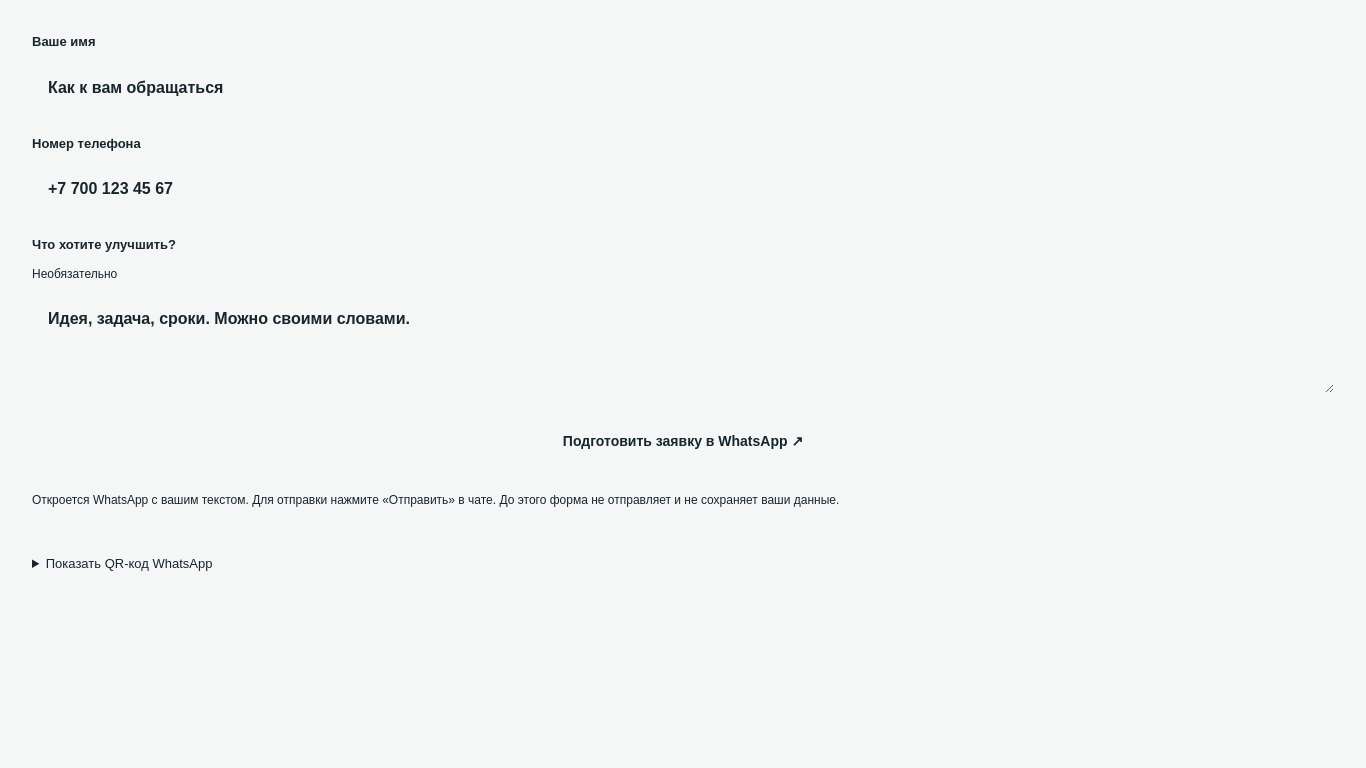
Test: ContactRequest › rejects an invalid phone and preserves the entered fields
In the field labelled "Ваше имя": (683, 88) top-left (32, 62), bottom-right (1334, 114), type "Тест"
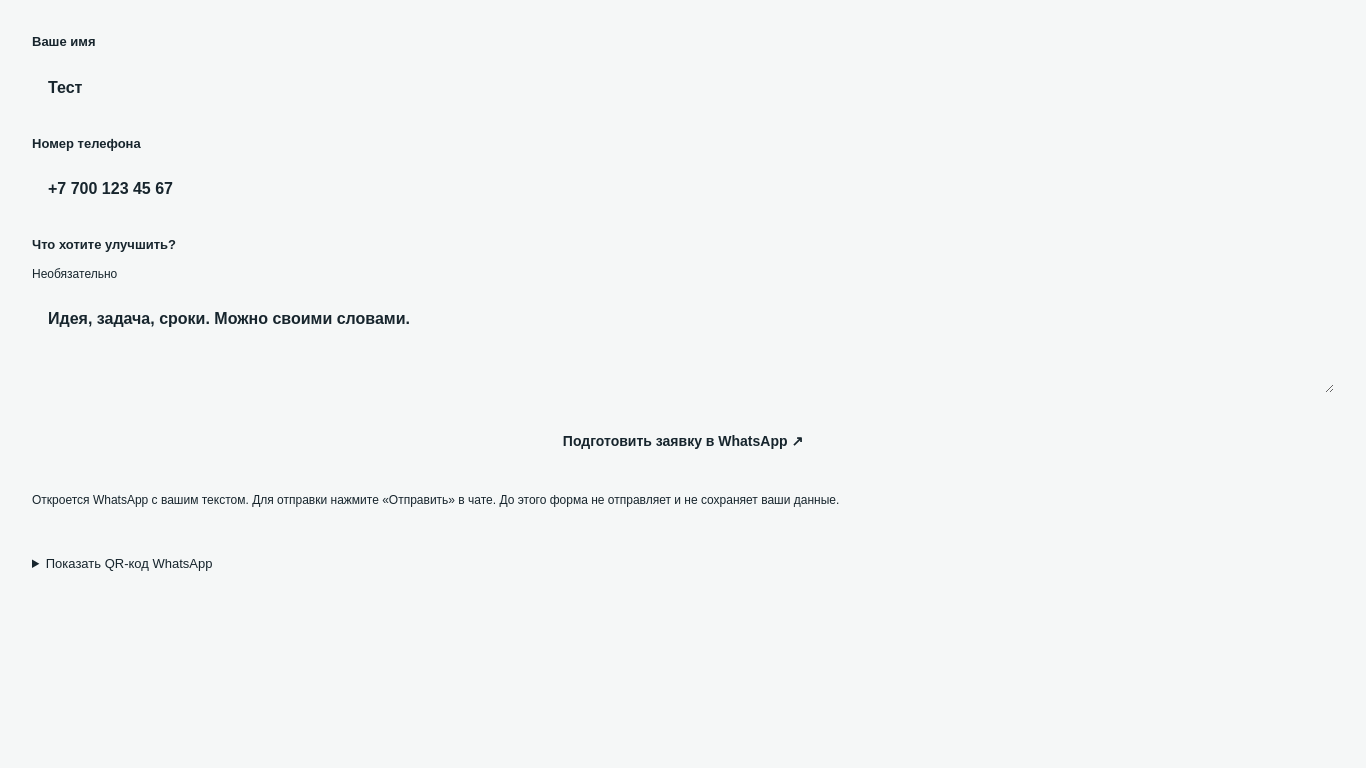
In the field labelled "Номер телефона": (683, 189) top-left (32, 163), bottom-right (1334, 215), type "123"
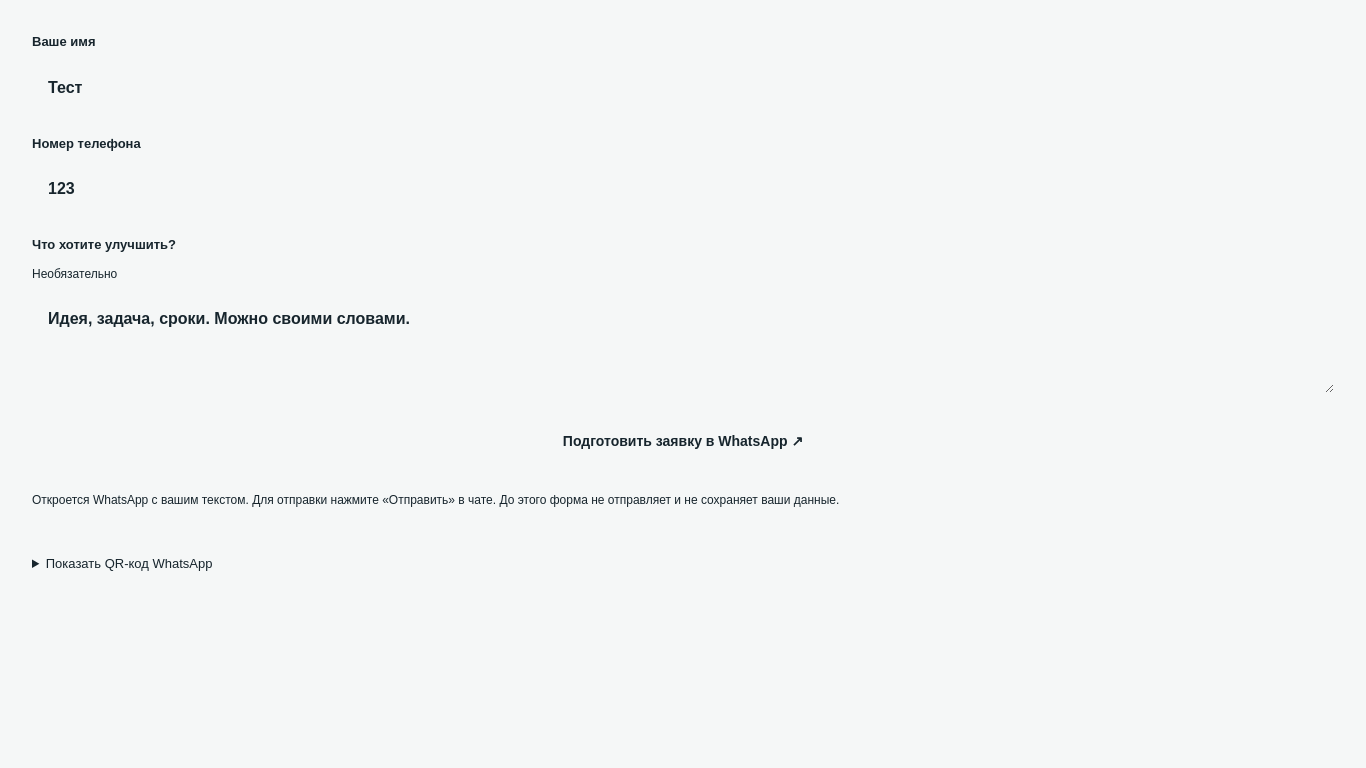
Submit the form "Подготовить заявку", box top-left (32, 32), bottom-right (1334, 510)
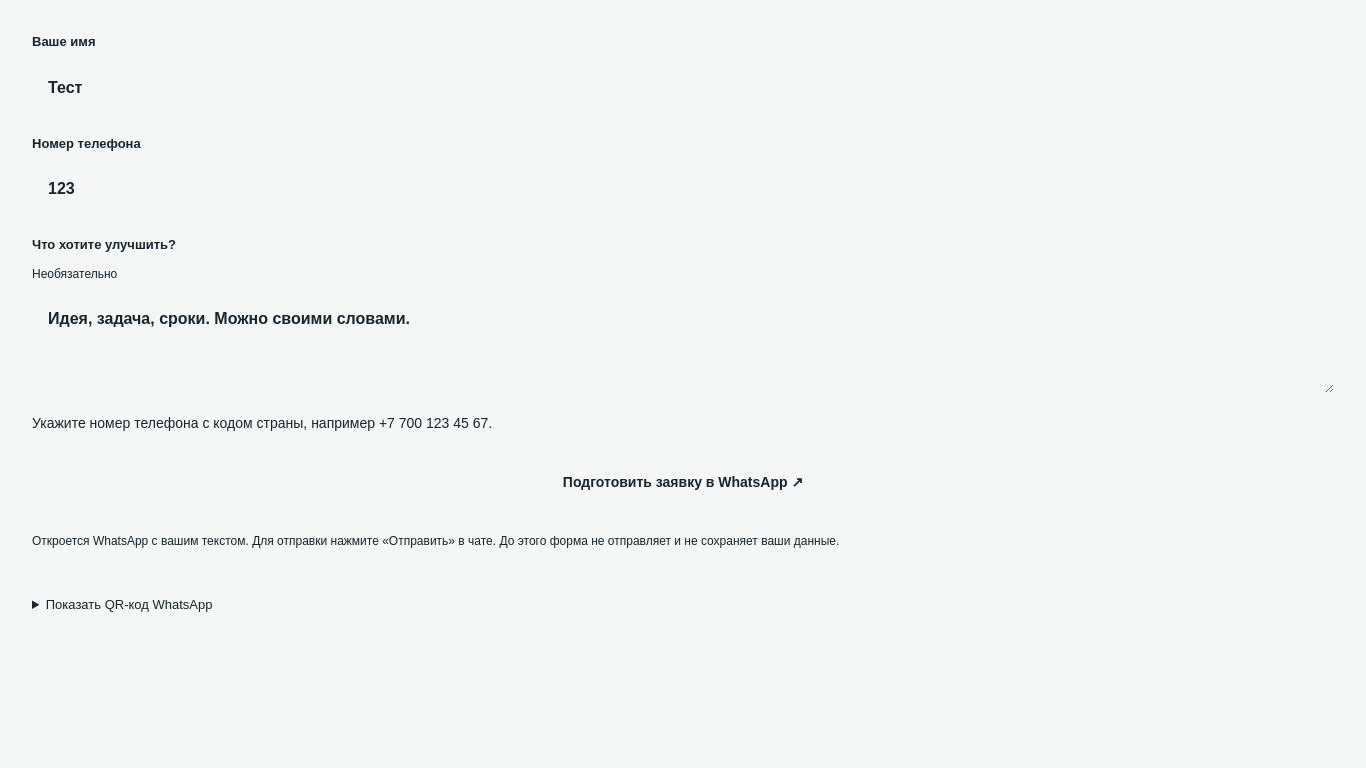
Expected: the message shows "Укажите номер телефона", top-left (32, 414), bottom-right (492, 430)
